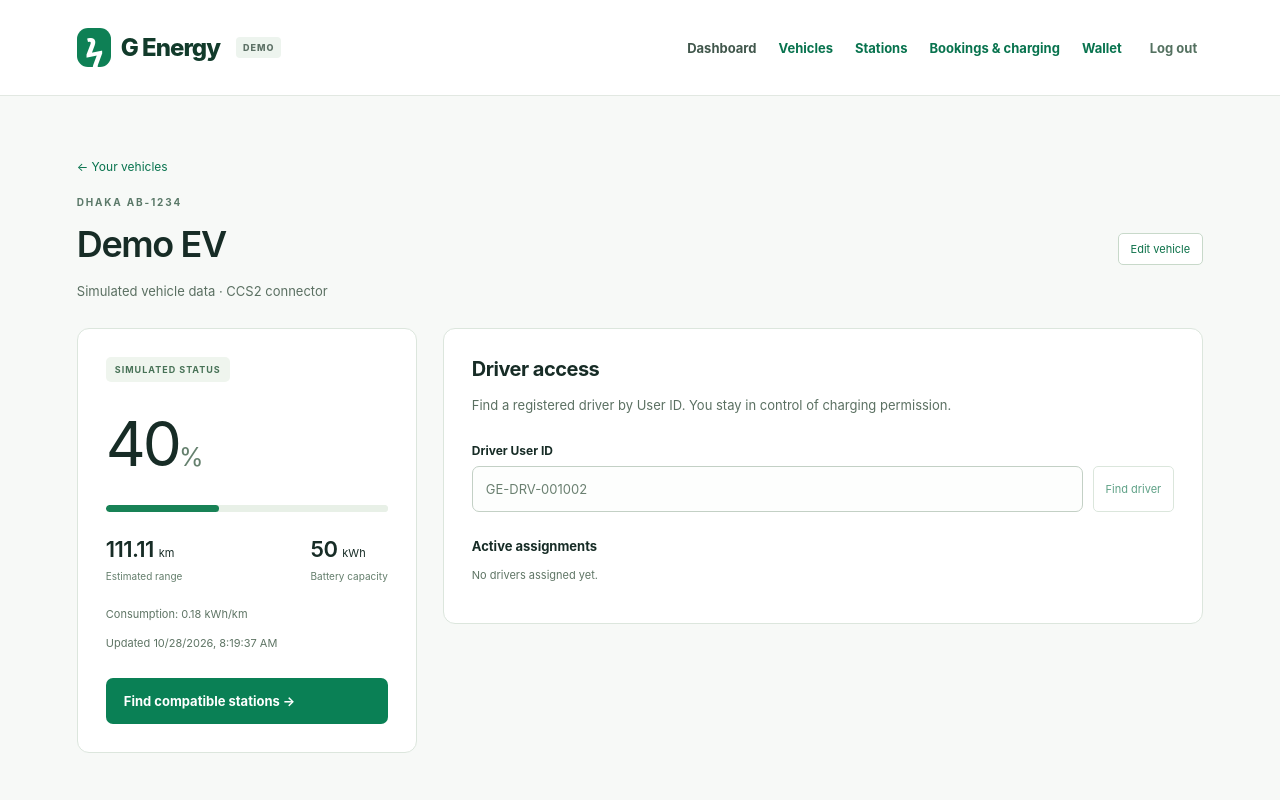
Test: Member 2 screens › edits simulated fields and preserves errors on failed saves
Click the button "Edit vehicle".
click(1160, 249)  # box [1118,233,1203,265]
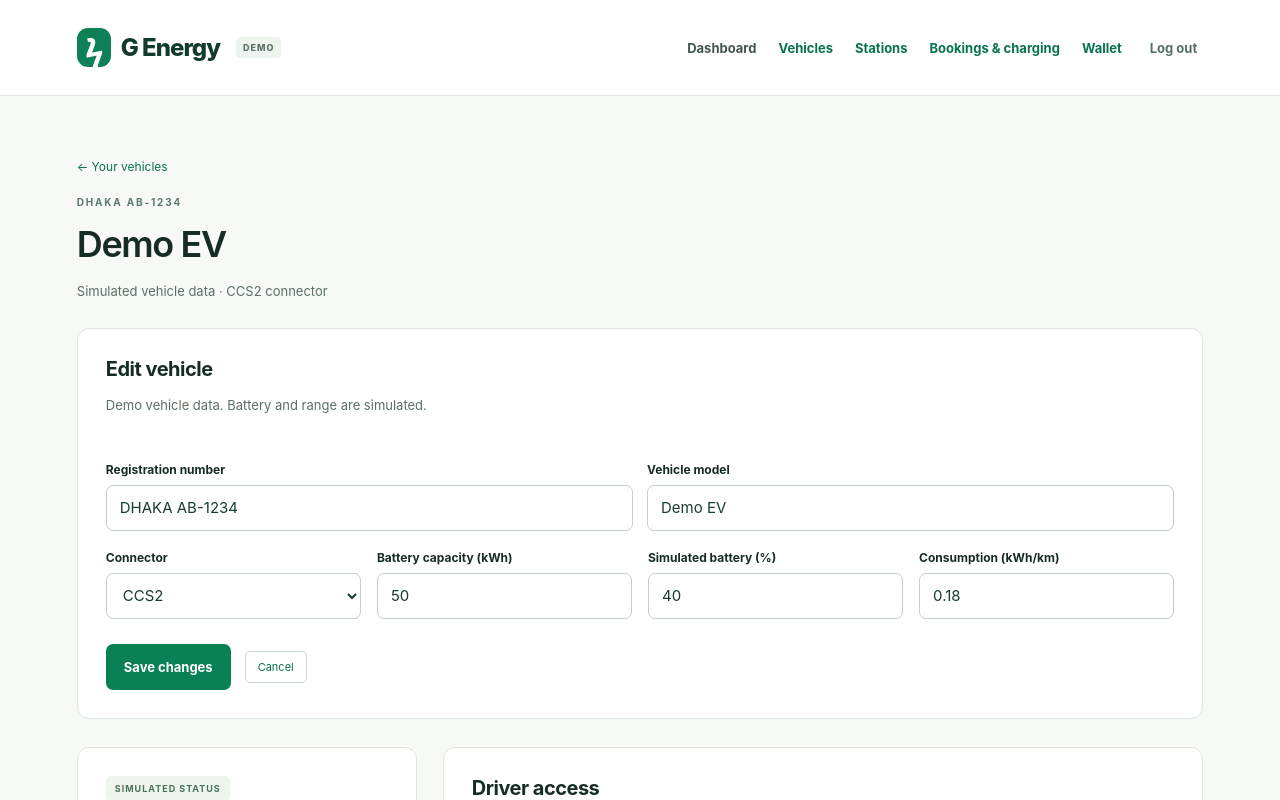
Replace the text in the number field labelled "Simulated battery (%)" with "65" at {"x": 776, "y": 596}, box [648,573,903,619]
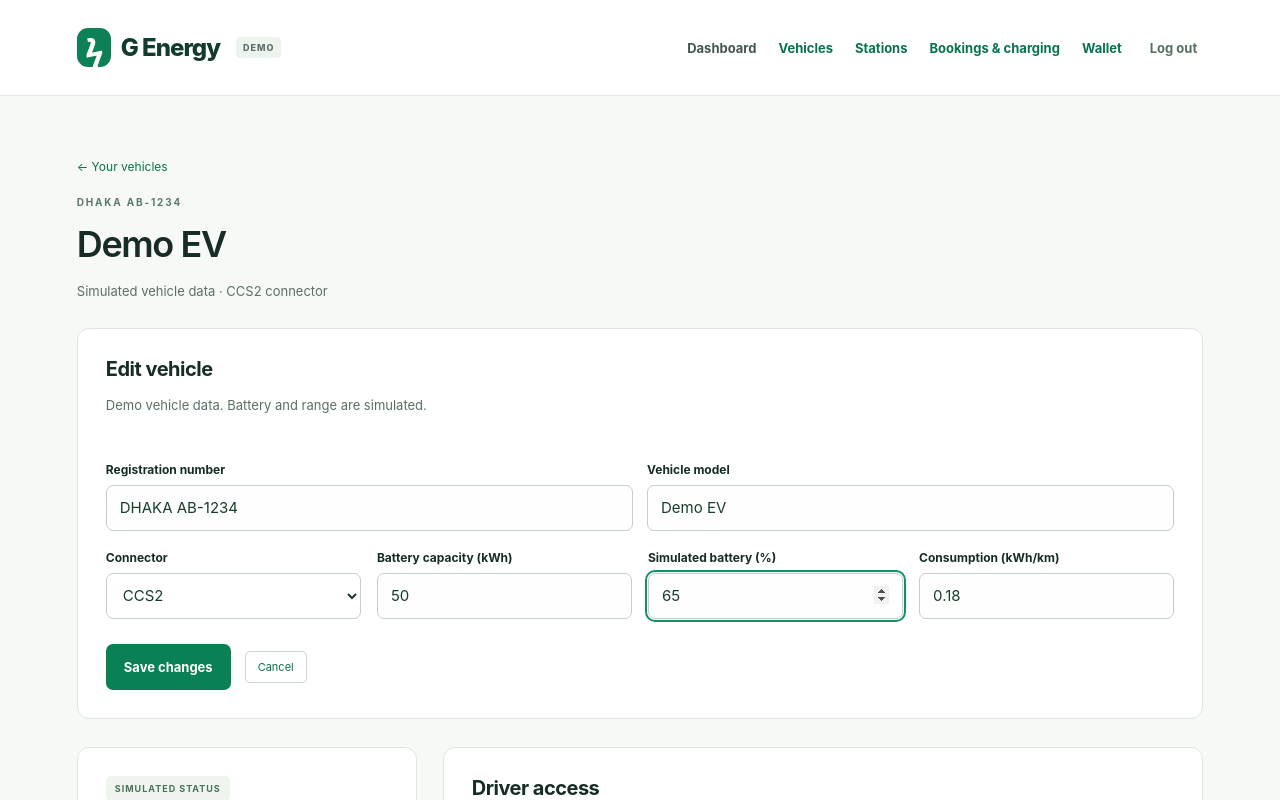
Click the button "Save changes".
click(168, 667)  # box [106,644,231,690]
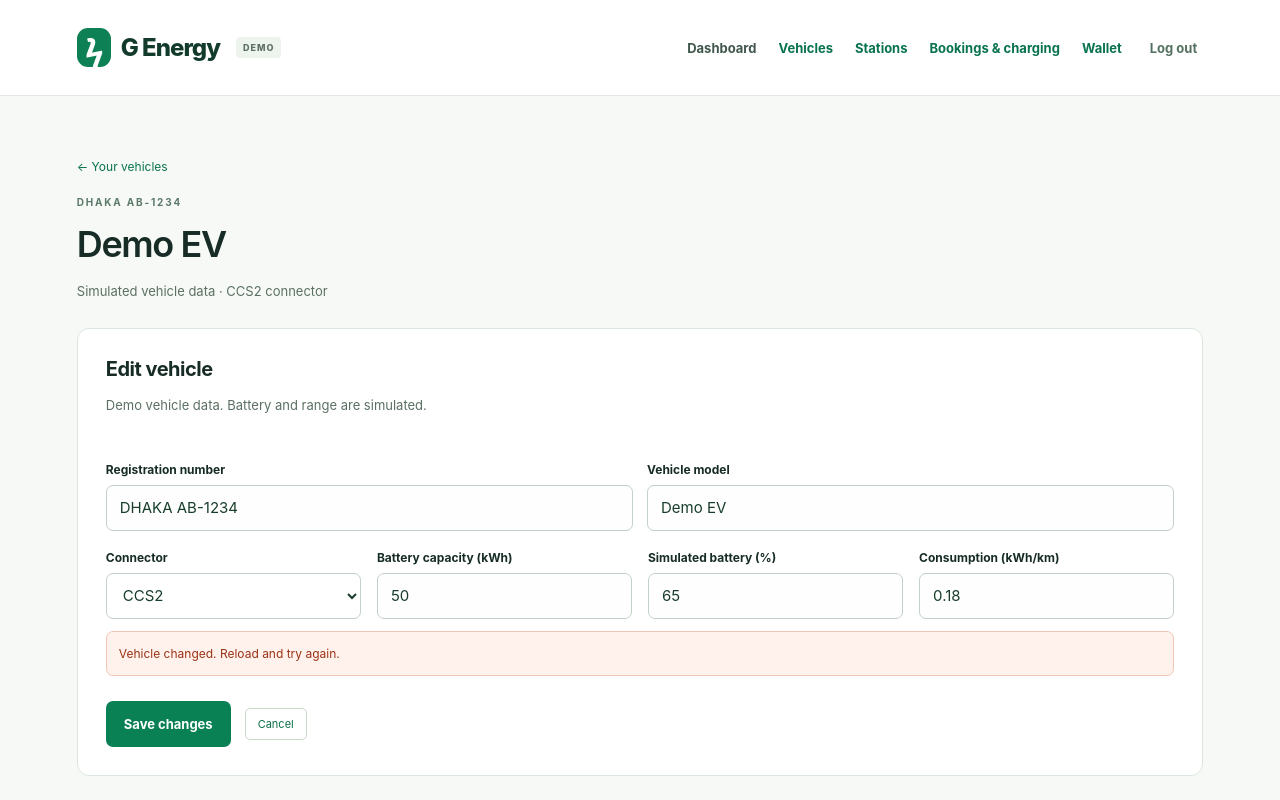
Expected: the message reads "Vehicle changed. Reload and try again.", [119,646,340,661]
